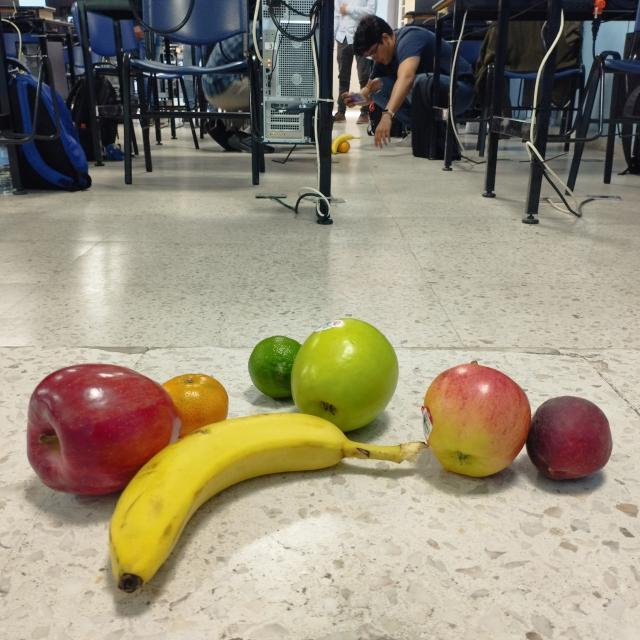Apel Gala: (414, 352, 540, 492)
Apel Granny Smith: (284, 308, 432, 441)
Apel Merah: (23, 342, 185, 504)
Jeruk Mandarin: (156, 364, 229, 436)
Lemon: (234, 320, 324, 410)
Persik: (514, 372, 624, 496)
Pisang: (90, 405, 422, 601)
